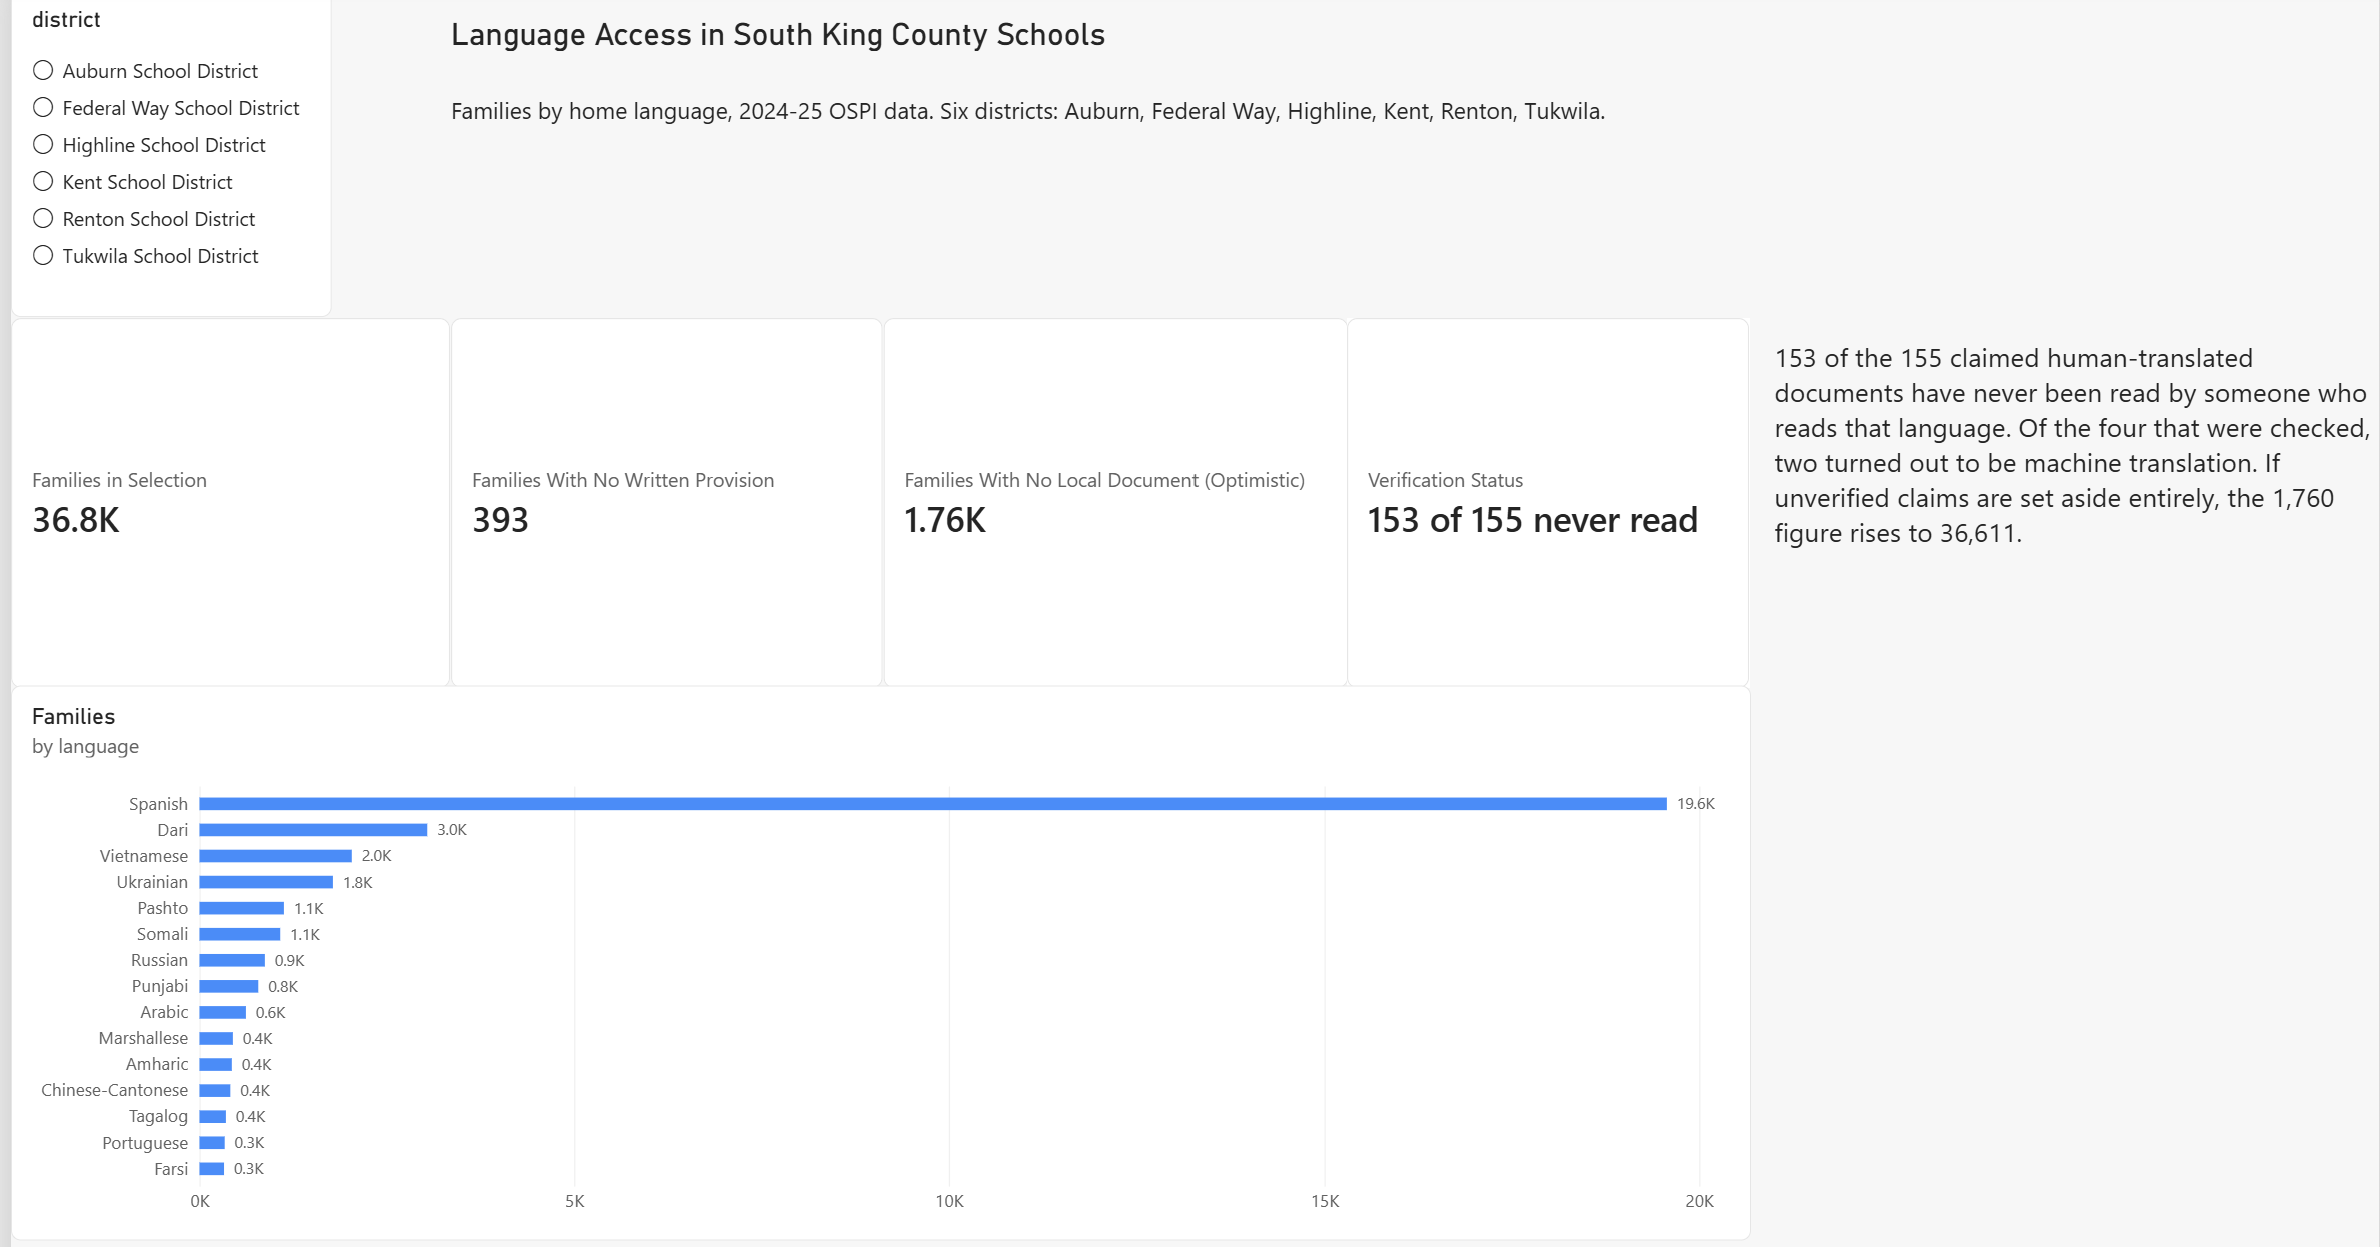

The dashboard page shown, as its layout file describes it:
{"tool":"powerbi","page":{"name":"What the data says","canvas":[1920,1080],"ordinal":0},"visuals":[{"type":"cardVisual","fields":{"Data":["fact_gap.Families in Selection"]},"box":[0,266.7,356.7,300],"z":0},{"type":"cardVisual","fields":{"Data":["fact_gap.Families With No Written Provision"]},"box":[356.7,266.7,350,300],"z":1000},{"type":"cardVisual","fields":{"Data":["fact_gap.Families With No Local Document (Optimistic)"]},"box":[706.7,266.7,376.7,300],"z":2000},{"type":"cardVisual","fields":{"Data":["fact_gap.Verification Status"]},"box":[1083.3,266.7,326.7,300],"z":3000},{"type":"clusteredBarChart","fields":{"Category":["dim_language.language"],"Y":["dim_language.Families"]},"box":[0,566,1410,450],"z":4000},{"type":"listSlicer","fields":{"Values":["dim_district.district"]},"box":[0,0,260,266.7],"z":5000},{"type":"textbox","title":"Language Access in South King County Schools","box":[356.8,22.7,1052.3,243.2],"z":6000},{"type":"textbox","box":[1409.1,265.9,490.9,300],"z":7000}]}

Visuals, with their boxes on the page's 1920x1080 design canvas (x1, y1, x2, y2). These are canvas units, not pixel positions in the 2380x1247 screenshot, which may show the page scaled, cropped or inside an application window:
cardVisual - fact_gap.Families in Selection: [x1=0, y1=267, x2=357, y2=567]
cardVisual - fact_gap.Families With No Written Provision: [x1=357, y1=267, x2=707, y2=567]
cardVisual - fact_gap.Families With No Local Document (Optimistic): [x1=707, y1=267, x2=1083, y2=567]
cardVisual - fact_gap.Verification Status: [x1=1083, y1=267, x2=1410, y2=567]
clusteredBarChart - dim_language.language x dim_language.Families: [x1=0, y1=566, x2=1410, y2=1016]
listSlicer - dim_district.district: [x1=0, y1=0, x2=260, y2=267]
"Language Access in South King County Schools" textbox: [x1=357, y1=23, x2=1409, y2=266]
textbox: [x1=1409, y1=266, x2=1900, y2=566]
